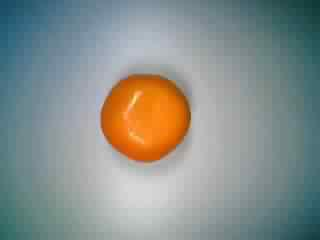orange: (96, 70, 193, 166)
